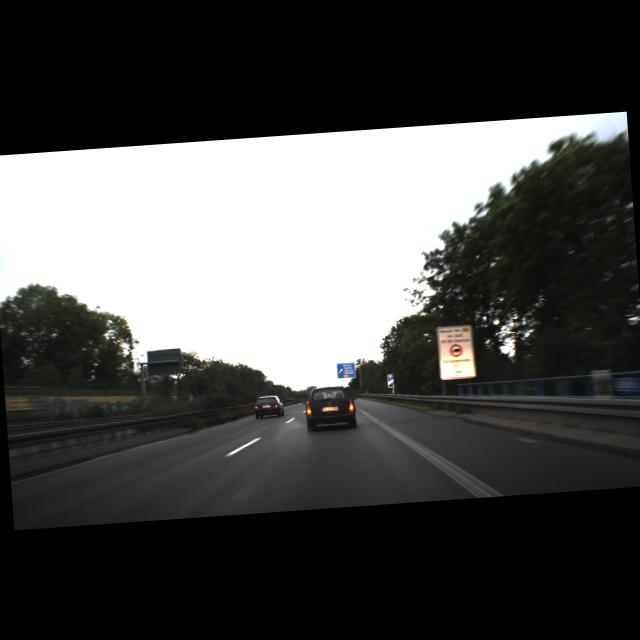prohibitory: (448, 342, 462, 357)
